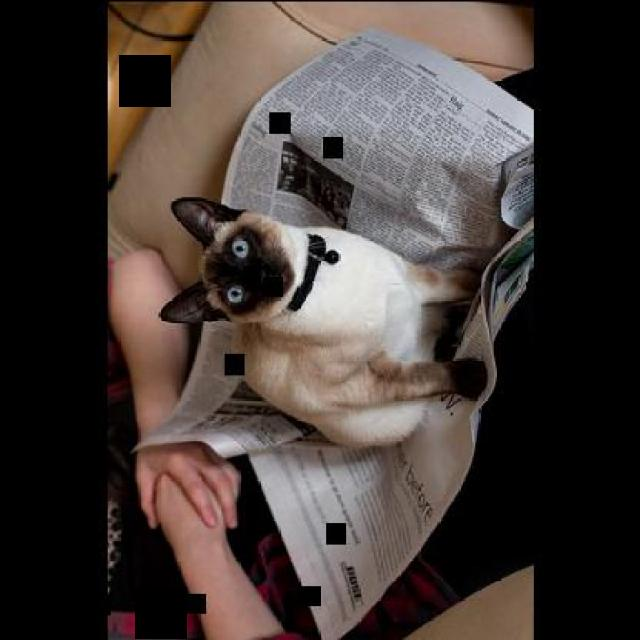unauthorized: (157, 194, 489, 449)
